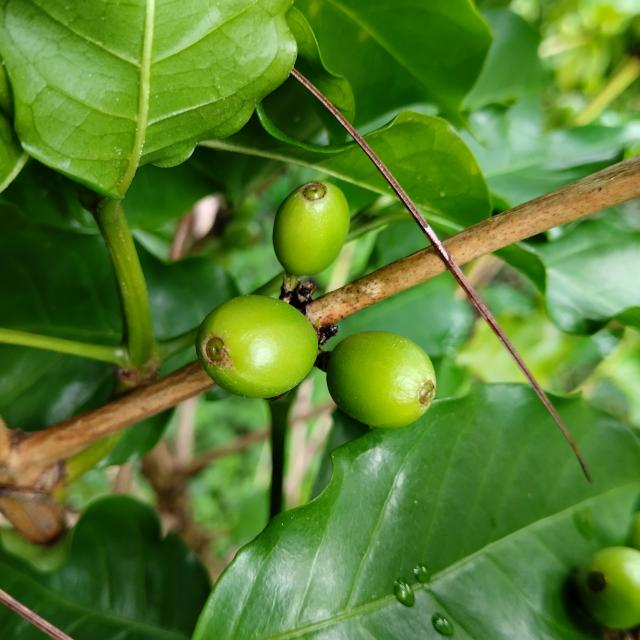green: (195, 295, 318, 399), (327, 331, 437, 429), (273, 181, 350, 276), (577, 548, 640, 630)
